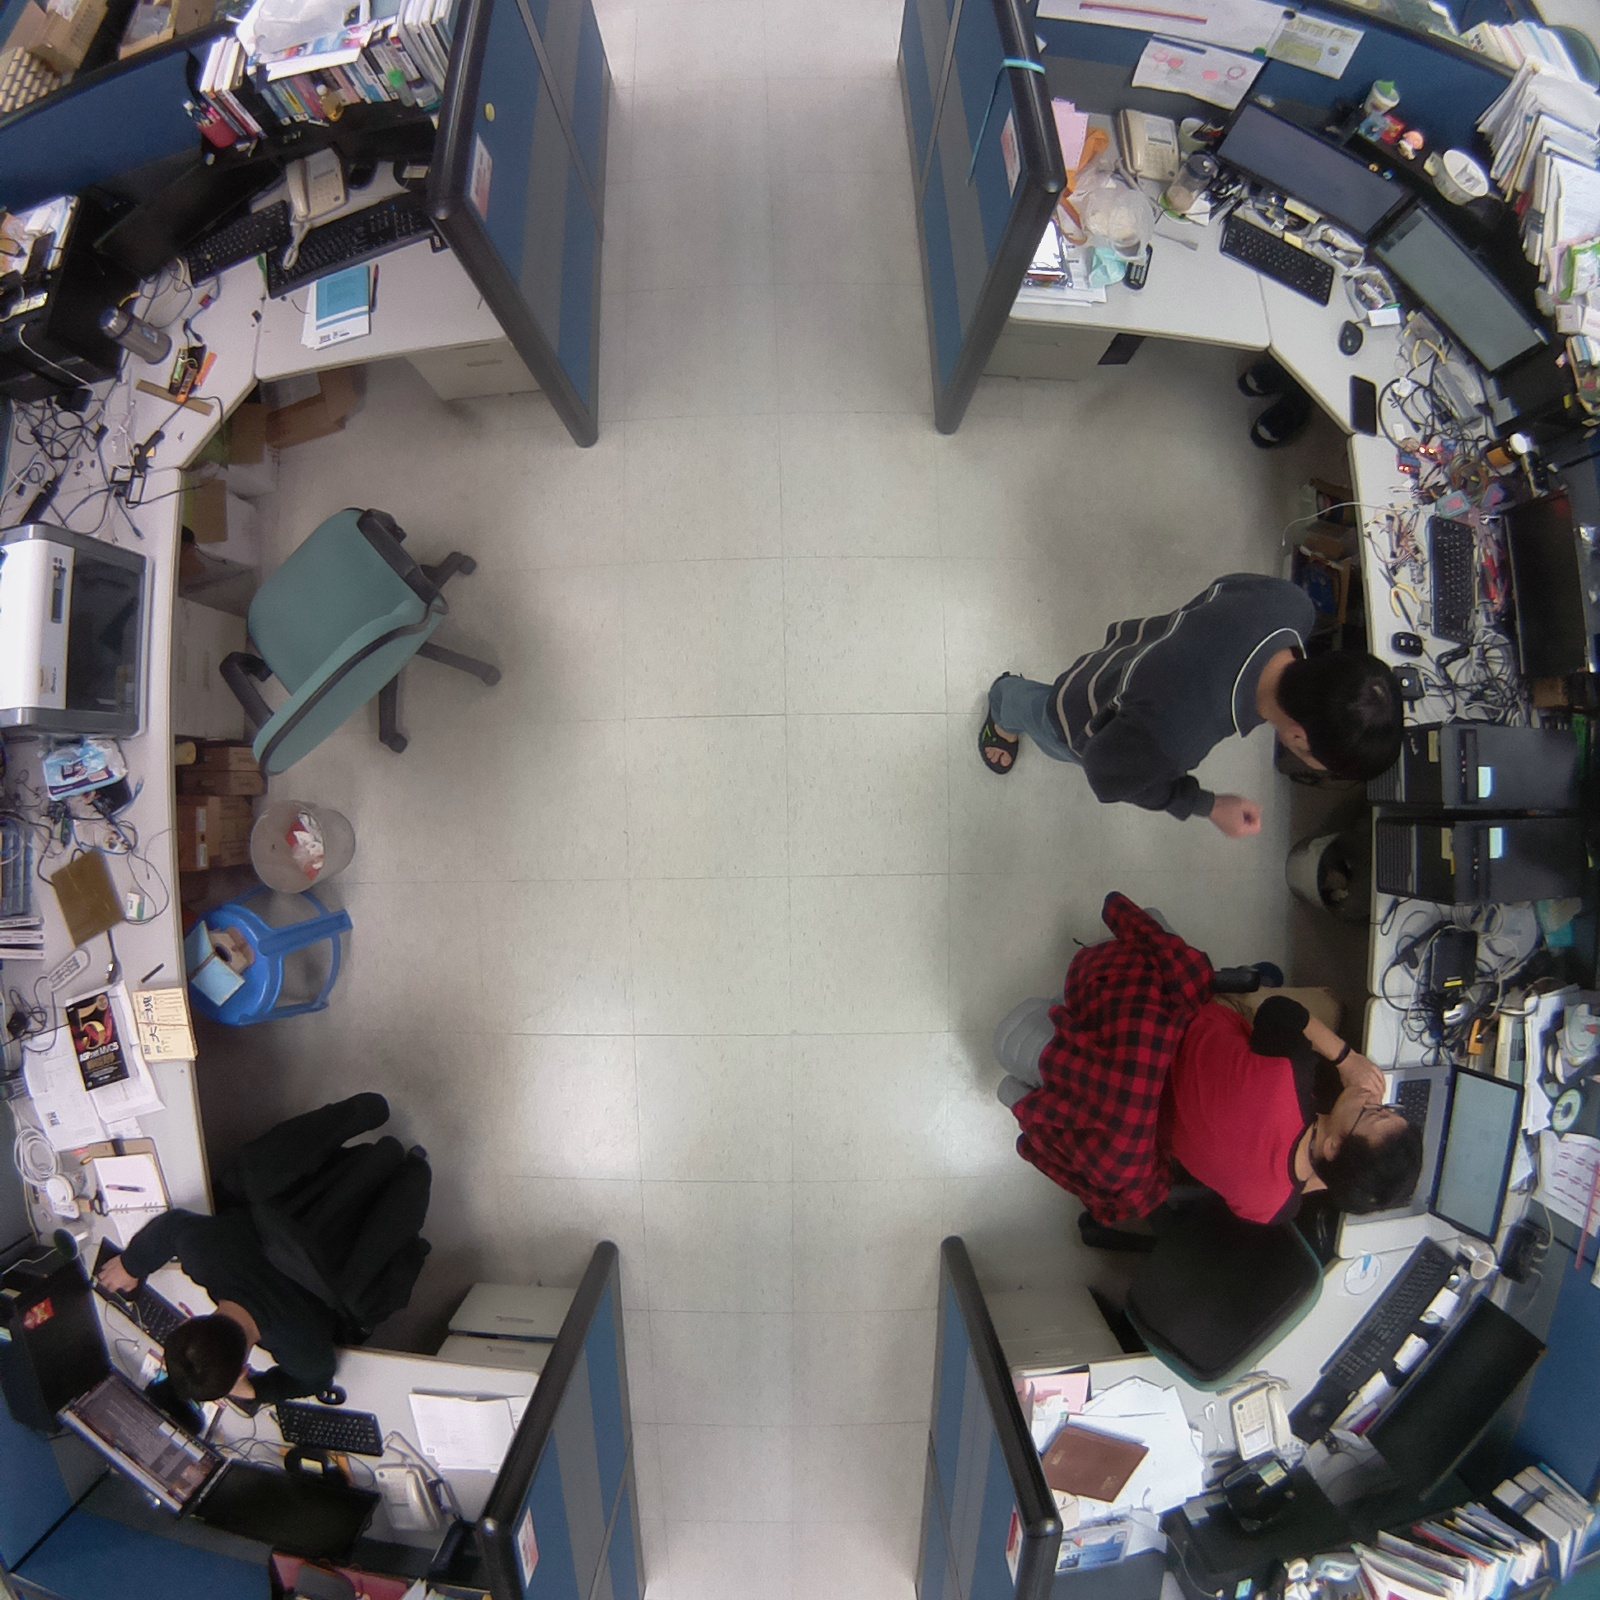chair: (219, 478, 517, 796), (1078, 1191, 1345, 1411)
head: (1268, 631, 1410, 797), (1315, 1080, 1425, 1219), (151, 1308, 257, 1412)
sitting: (994, 875, 1433, 1234), (90, 1075, 453, 1415)
standing: (970, 552, 1413, 847)
